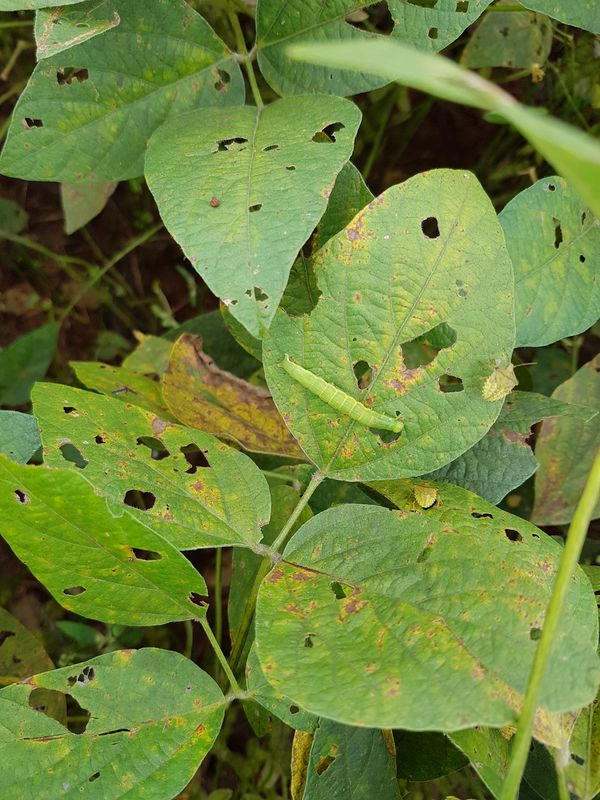Anticarsia_gemmatalis: (264, 342, 420, 460)
Euschistus_heros_ninfa: (473, 345, 540, 416), (402, 472, 448, 520)
